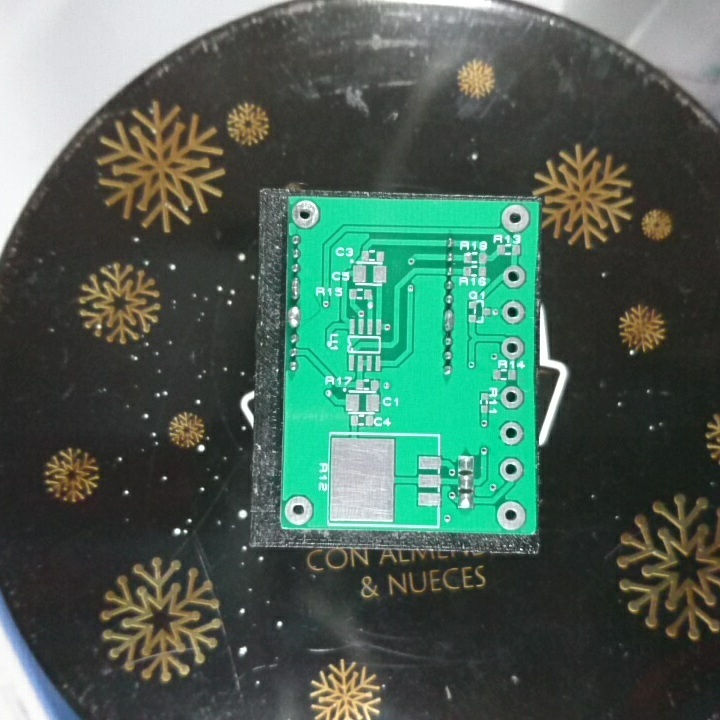F: (288, 198, 322, 232), (495, 498, 526, 532), (283, 492, 314, 526), (498, 203, 530, 235), (497, 418, 527, 447), (497, 383, 525, 410), (498, 455, 526, 482), (501, 263, 527, 292), (500, 335, 526, 363), (500, 300, 526, 327)
P: (440, 307, 457, 333), (289, 274, 302, 302), (286, 303, 301, 327)
